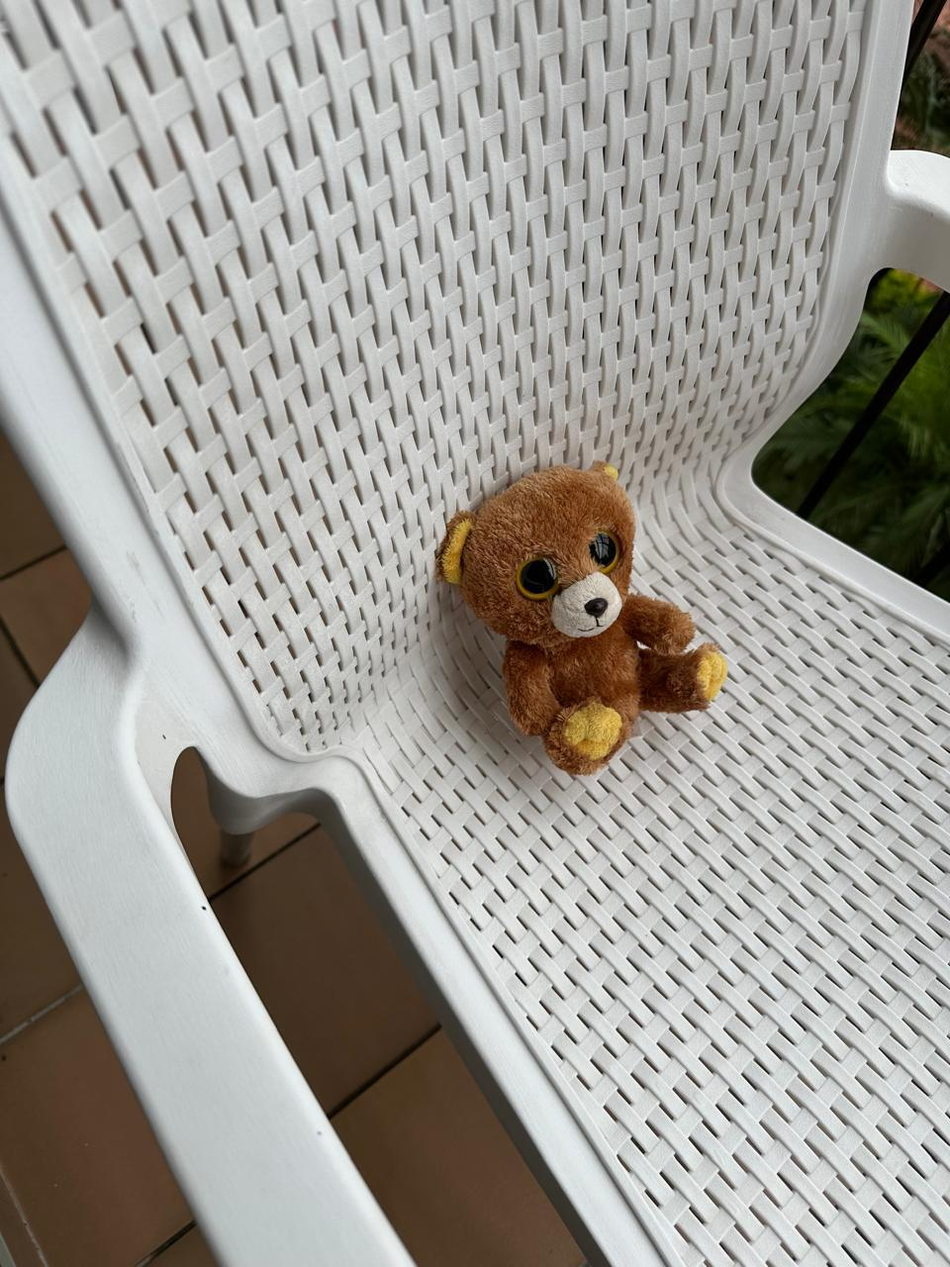peluche_sebastian: (440, 465, 732, 775)
